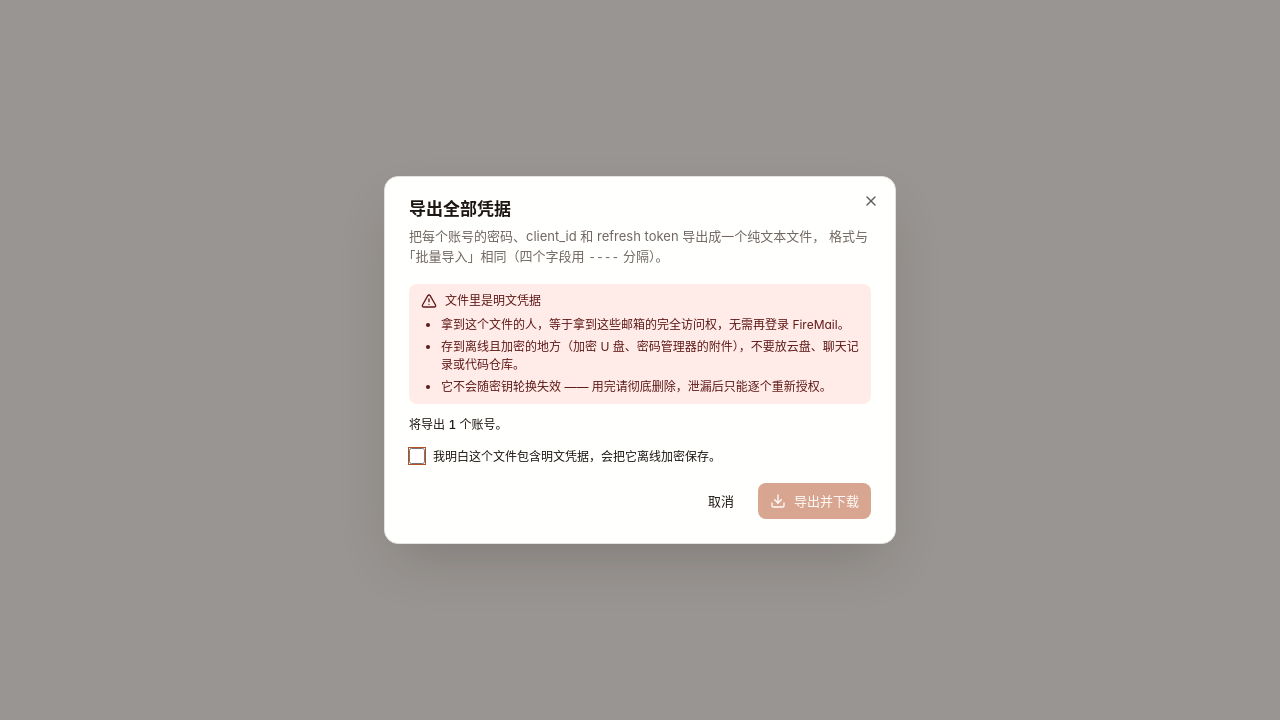
Test: 导出凭据对话框 › 结果是文件下载，正文一个字都不渲染进页面
Click the checkbox labelled "我明白这个文件包含明文凭据，会把它离线加密保存。".
click(417, 456)  # box 409,448 -> 425,464
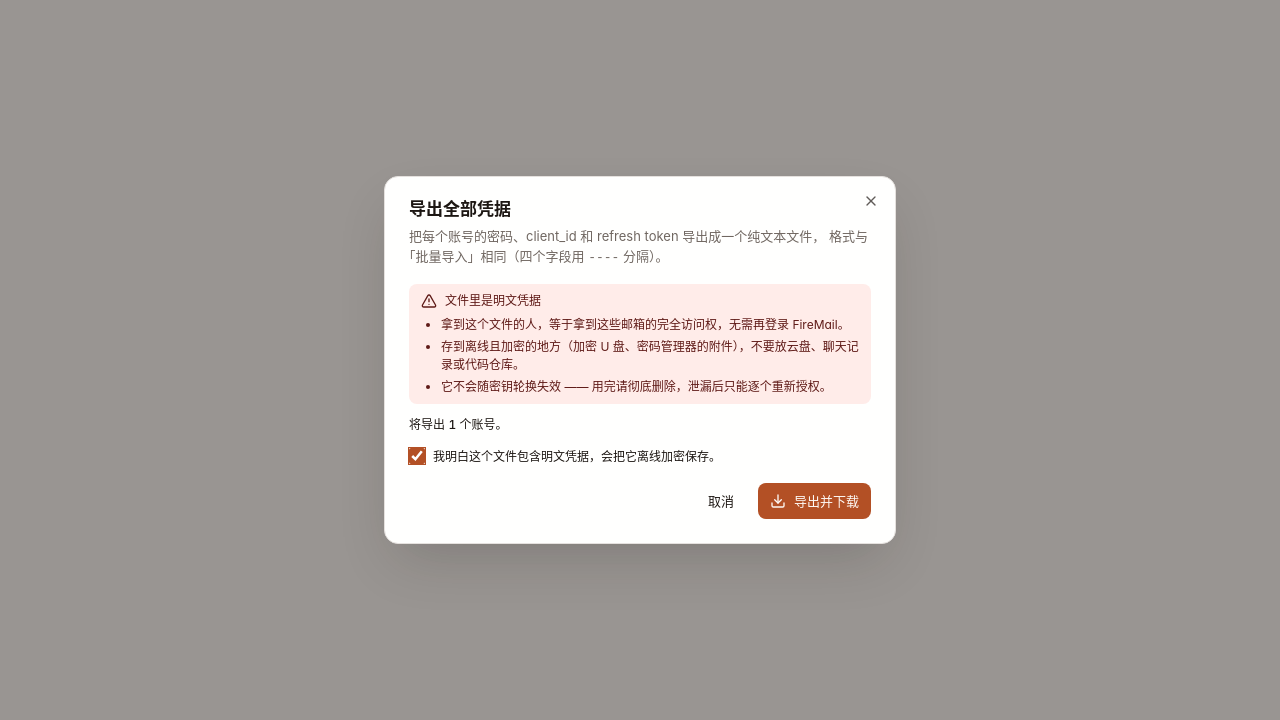
Click the button "导出并下载".
click(814, 501)  # box 758,483 -> 871,519
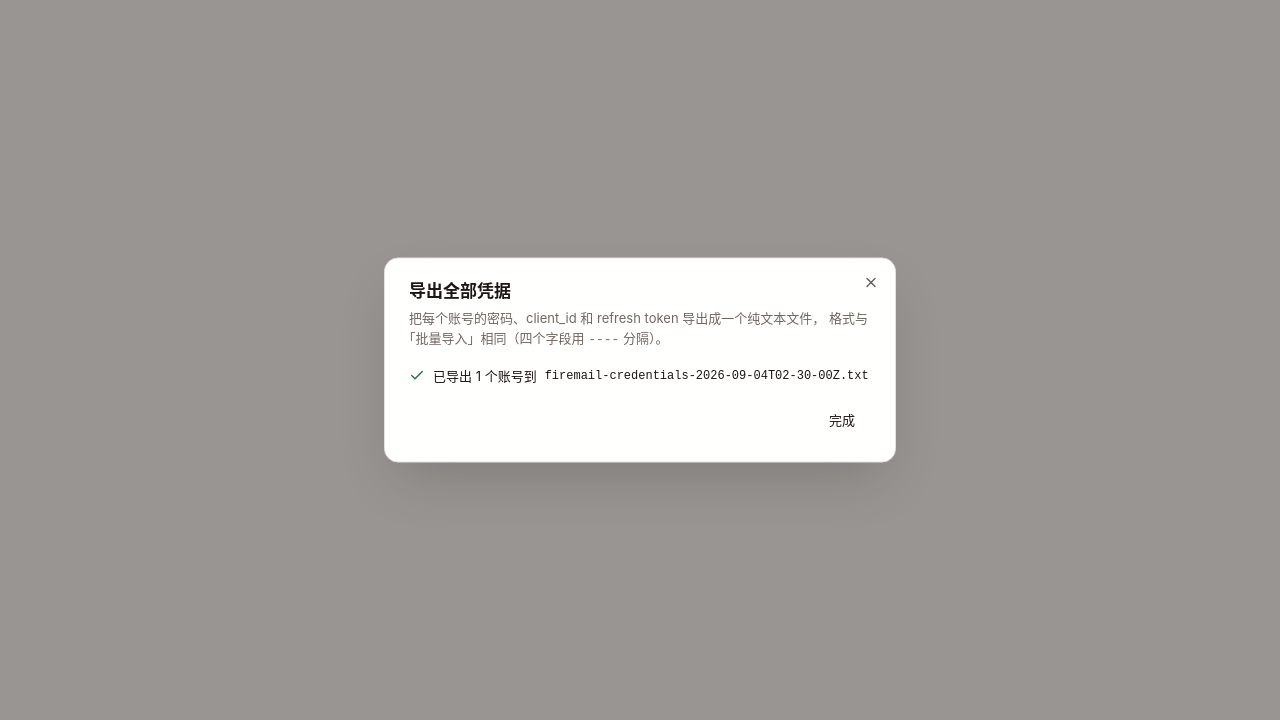
expect the text "firemail-credentials-2026-09-04T02-30-00Z.txt" is shown: met, box 545,366 -> 869,384
